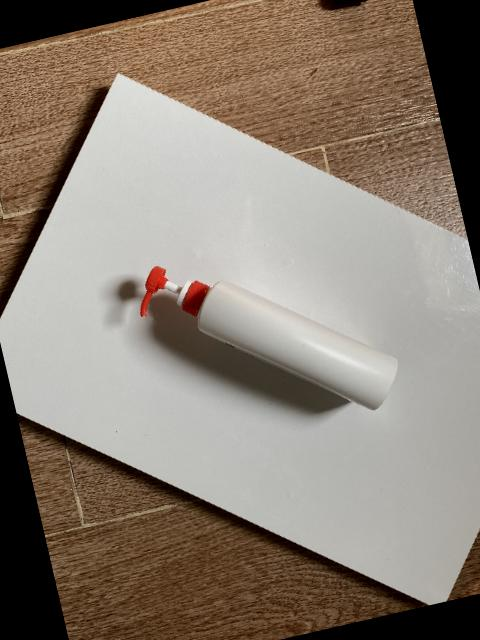life-buoy: (138, 264, 397, 410)
